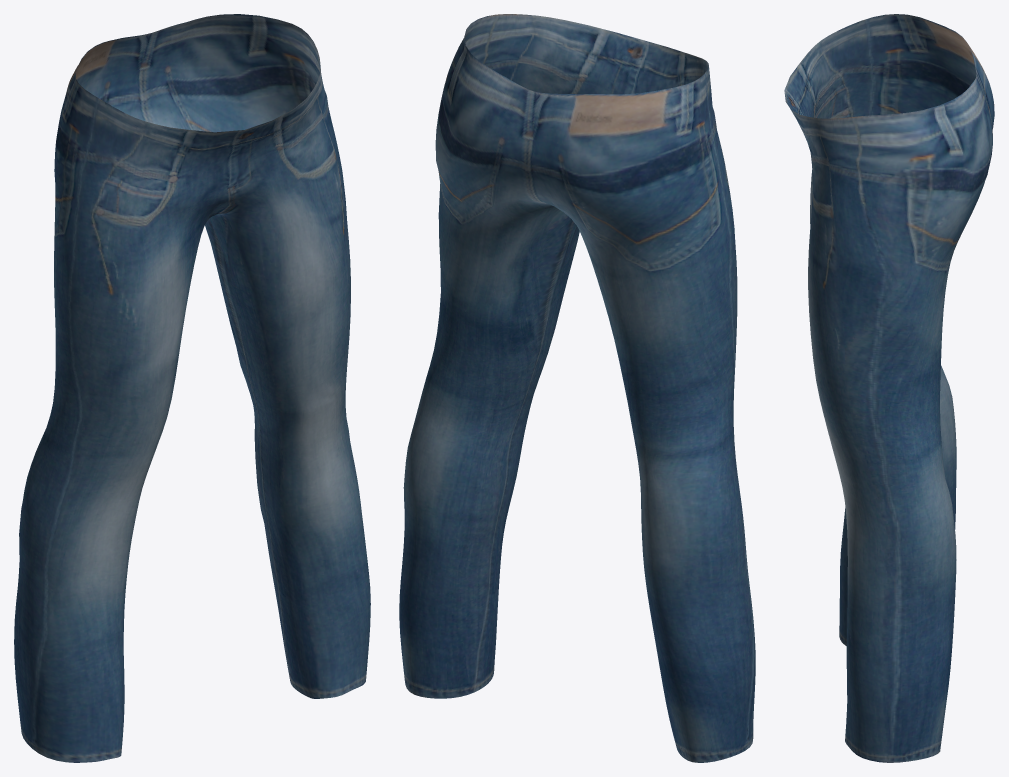
Rendered from ONFIT_Pants_BodyMorph_v2.glb.
3 views of the same model, side by side, from view 1: azimuth 30°, elevation 25°; view 2: azimuth 150°, elevation 25°; view 3: azimuth 270°, elevation 25° (orthographic). The views are drawn at different scales.
Visible parts, largest first — view 1: ONFIT_Pants; view 2: ONFIT_Pants; view 3: ONFIT_Pants.
Boxes of the visible parts, x1,y1,x2,y2 form: ONFIT_Pants: (14, 14, 370, 762); ONFIT_Pants: (399, 14, 755, 762); ONFIT_Pants: (784, 14, 994, 762).
Size of the model in its own units: 0.4695 by 0.8893 by 0.2685.
Materials: 1 (1 with a texture image).
